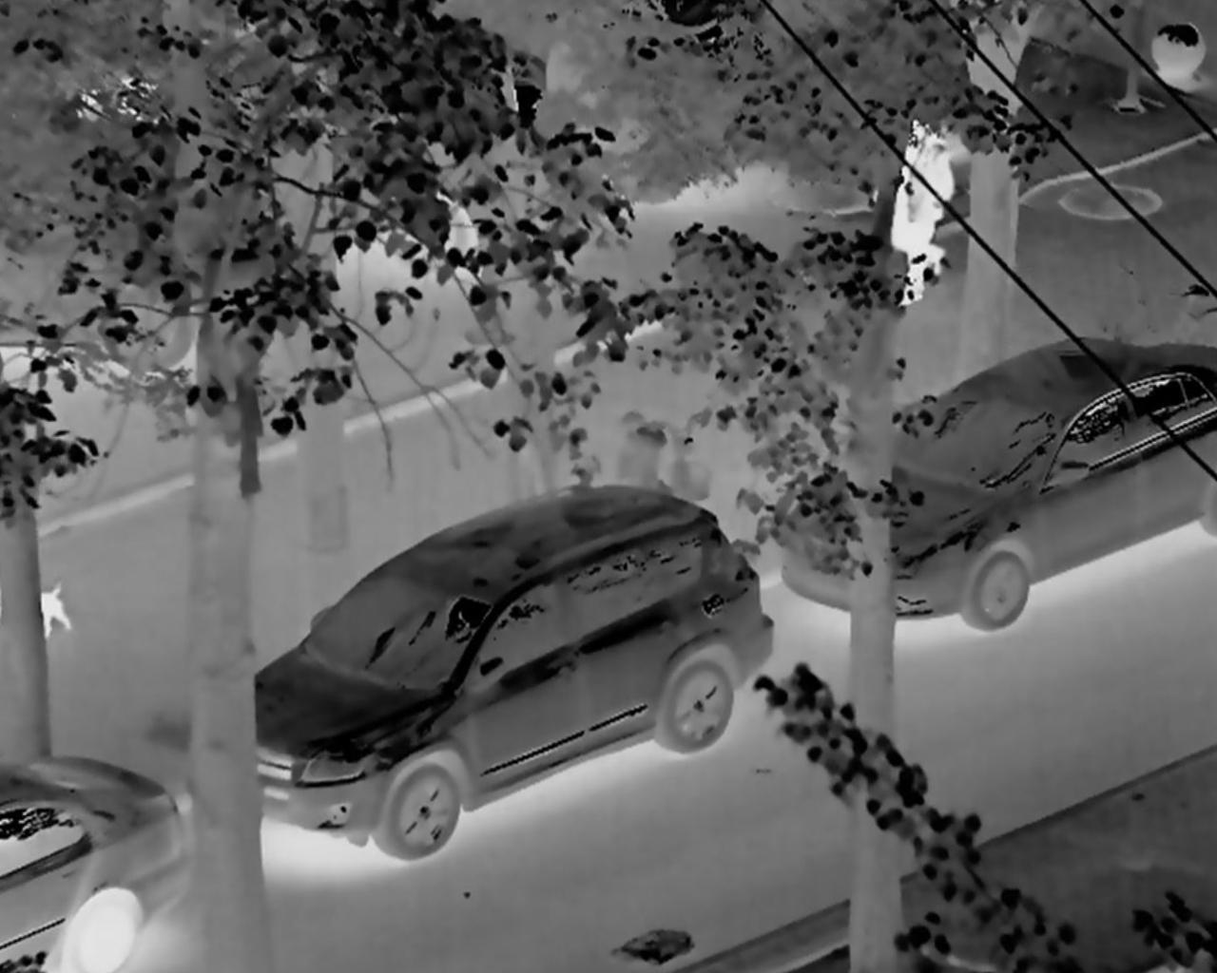person: (874, 91, 957, 313)
